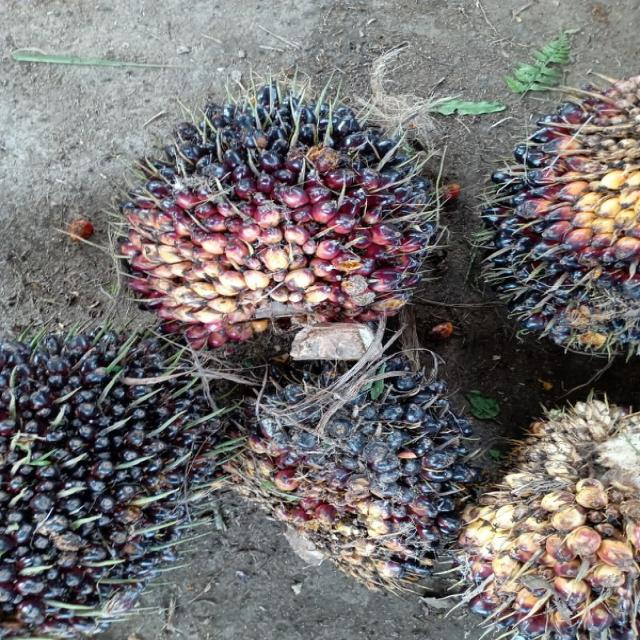fraksi 1: (79, 48, 474, 379)
